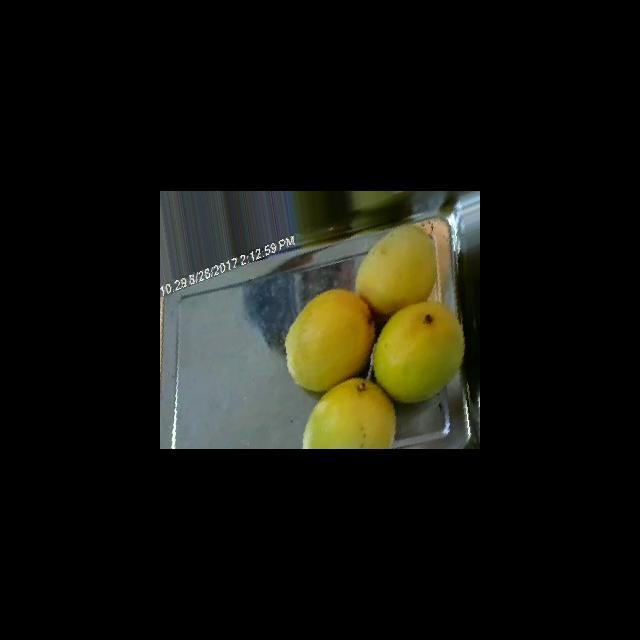Mango: (372, 300, 464, 403), (284, 288, 375, 392), (354, 224, 437, 315), (301, 377, 396, 448)
